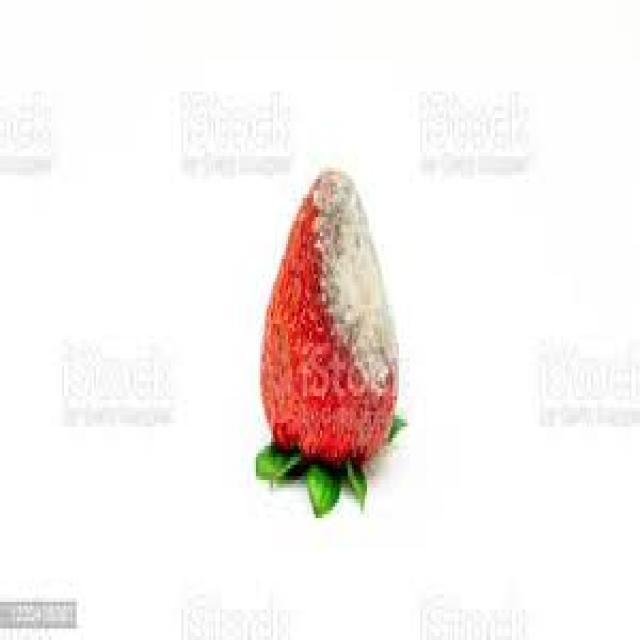Moho gris: (249, 164, 422, 486)
